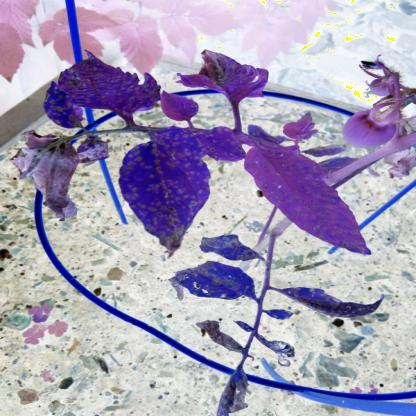tomato septoria leaf spot: (245, 126, 370, 256), (122, 118, 207, 262), (49, 48, 166, 118), (168, 40, 272, 110), (164, 264, 268, 306), (192, 120, 243, 162)
